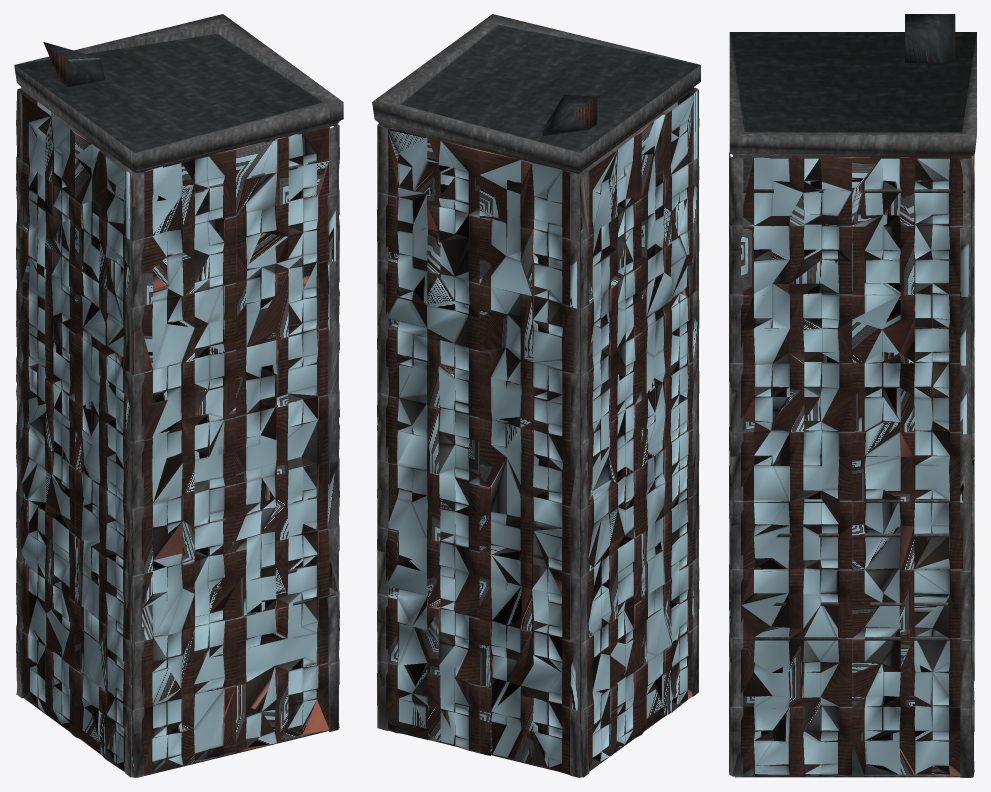
3 views of the same model, side by side, from view 1: azimuth 30°, elevation 25°; view 2: azimuth 150°, elevation 25°; view 3: azimuth 270°, elevation 25° (orthographic). The views are drawn at different scales.
Visible parts, largest first — view 1: Building-Medium-02-BAKED.001; view 2: Building-Medium-02-BAKED.001; view 3: Building-Medium-02-BAKED.001.
Part boxes in pixels (x1,y1,x2,y2): Building-Medium-02-BAKED.001: (14,14,343,777); Building-Medium-02-BAKED.001: (372,14,700,777); Building-Medium-02-BAKED.001: (729,14,976,777).
Size of the model in its own units: 17.01 by 50.64 by 16.96.
1 material, 1 textured.
